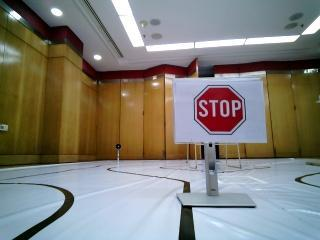stop: (173, 78, 263, 140)
